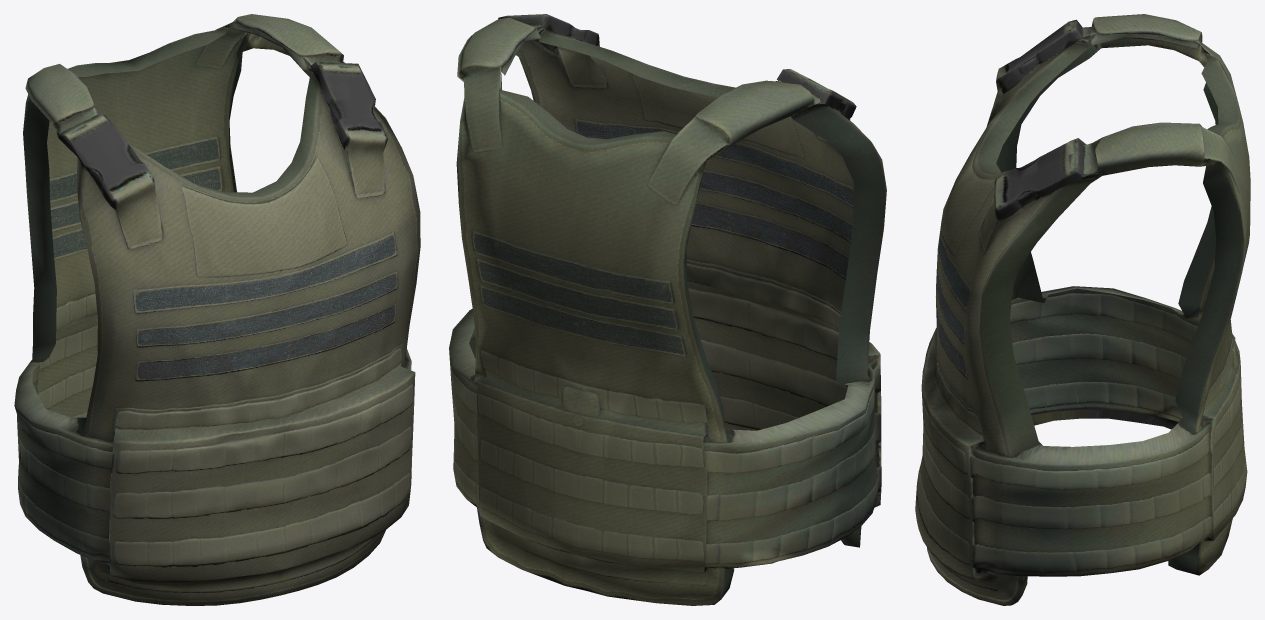
The model's file is Vest3.fbx.
3 views of the same model, side by side, from view 1: azimuth 30°, elevation 25°; view 2: azimuth 150°, elevation 25°; view 3: azimuth 270°, elevation 25° (orthographic). The views are drawn at different scales.
Parts seen in each view (by area): view 1: Vest_1_T2; view 2: Vest_1_T2; view 3: Vest_1_T2.
Part boxes in pixels (x1,y1,x2,y2): Vest_1_T2: [14, 14, 420, 605]; Vest_1_T2: [449, 14, 886, 605]; Vest_1_T2: [915, 14, 1250, 605].
Size of the model in its own units: 43.69 by 53.49 by 34.81.
